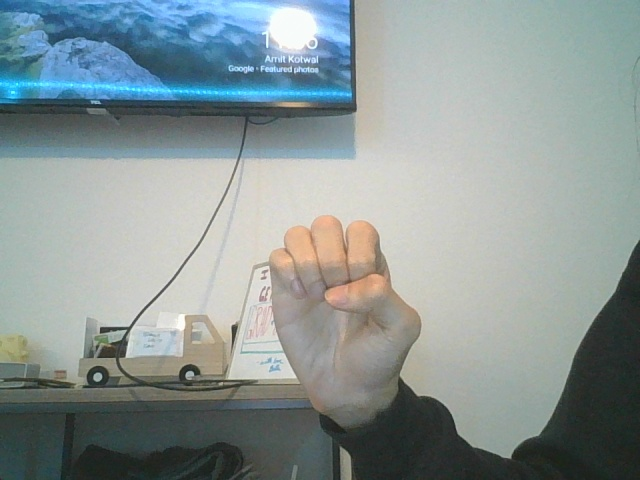e: (268, 214, 421, 413)
